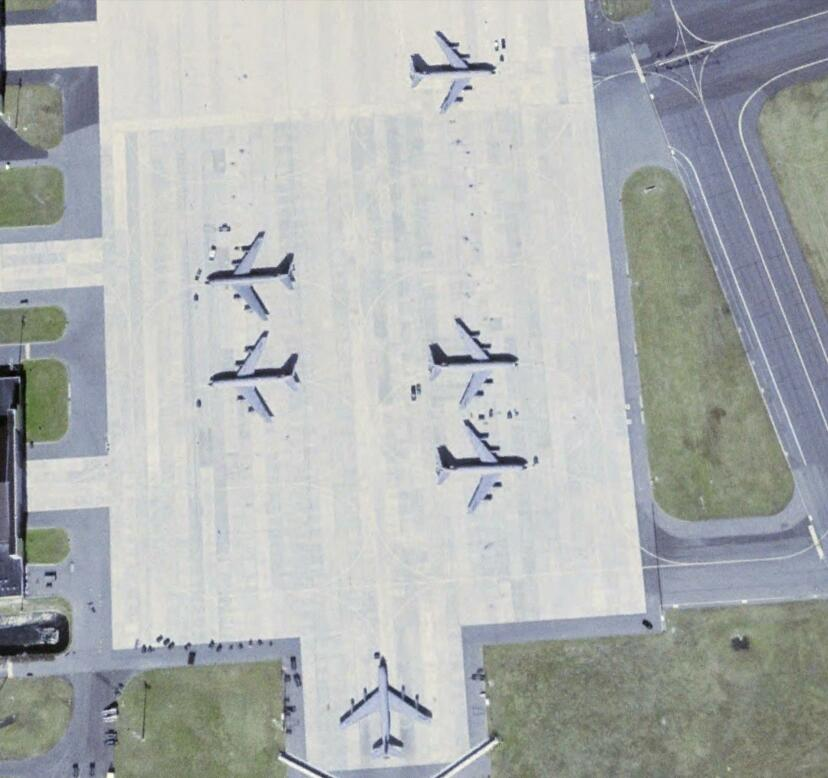A14: (337, 655, 436, 757), (209, 332, 305, 426), (432, 424, 529, 512), (430, 318, 523, 409), (209, 230, 299, 322), (411, 31, 498, 118)
